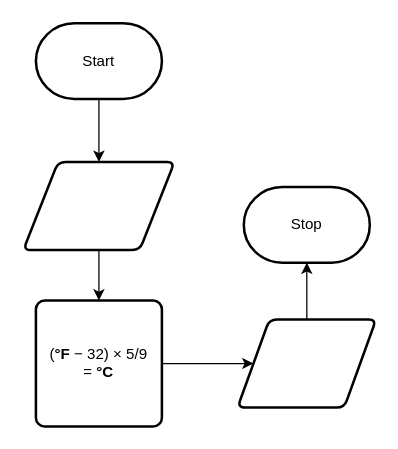
The diagram is 398 pixels wide and 449 high, and some of its shapes have lost their labels. The shapes that lost their labels are listed below. From the top down, each one's centre as x and y in pixels, then its label:
the point at 98,205: Insert feranhite number
the point at 306,363: Show celsius number
